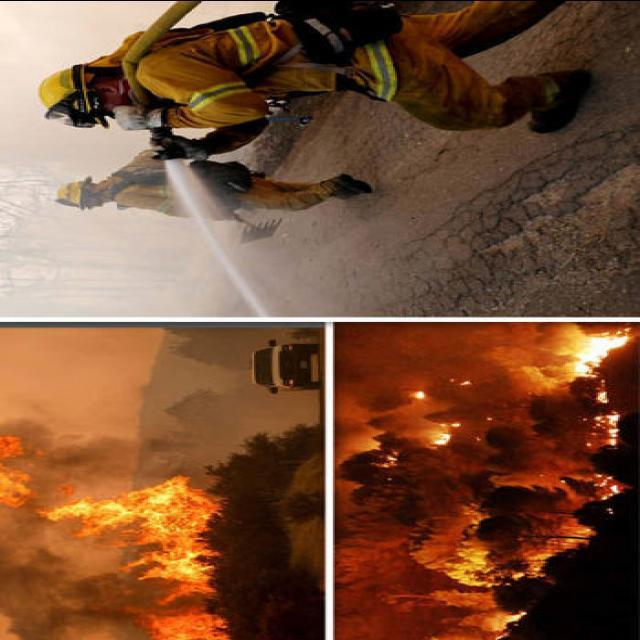Fire: (9, 413, 218, 640), (526, 320, 634, 392), (402, 374, 478, 446), (582, 408, 628, 493)
